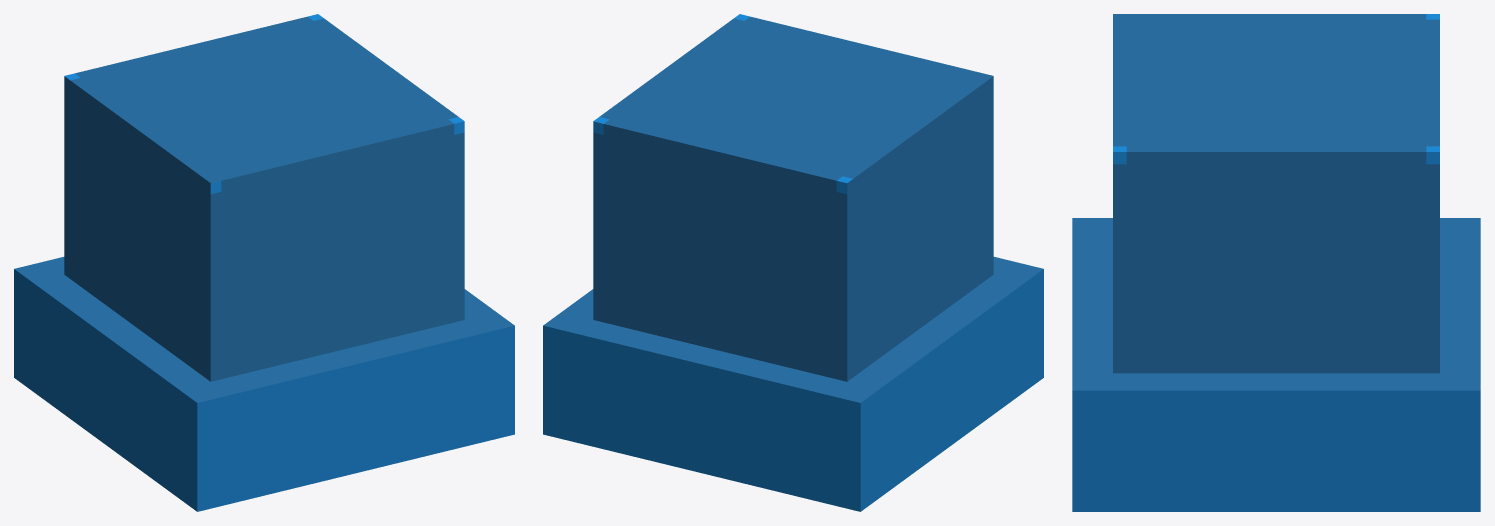
The model's file is coreswitch.gltf.
3 renders of one model, left to right at view 1: azimuth 30°, elevation 25°; view 2: azimuth 150°, elevation 25°; view 3: azimuth 270°, elevation 25°, orthographic. The views are drawn at different scales.
Parts seen in each view (by area): view 1: Box272, Box270, 对象407; view 2: Box272, Box270, 对象407; view 3: Box272, Box270, 对象407.
Boxes of the visible parts, box(x1,y1,x2,y2) form: Box272: box(64, 16, 464, 381); Box270: box(14, 269, 514, 511); 对象407: box(14, 257, 514, 402); Box272: box(593, 16, 993, 381); Box270: box(543, 269, 1043, 511); 对象407: box(543, 257, 1043, 402); Box272: box(1113, 14, 1439, 373); Box270: box(1072, 390, 1480, 511); 对象407: box(1072, 218, 1480, 390).
Size of the model in its own units: 0.672 by 0.622 by 0.672.
